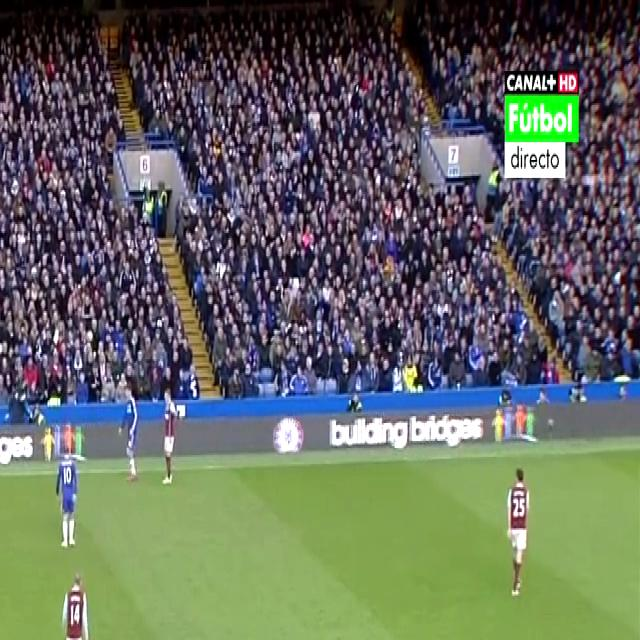soccer-player: (499, 464, 534, 608), (51, 438, 87, 548), (156, 384, 182, 491), (54, 569, 93, 640), (119, 381, 145, 485), (597, 631, 640, 640)
